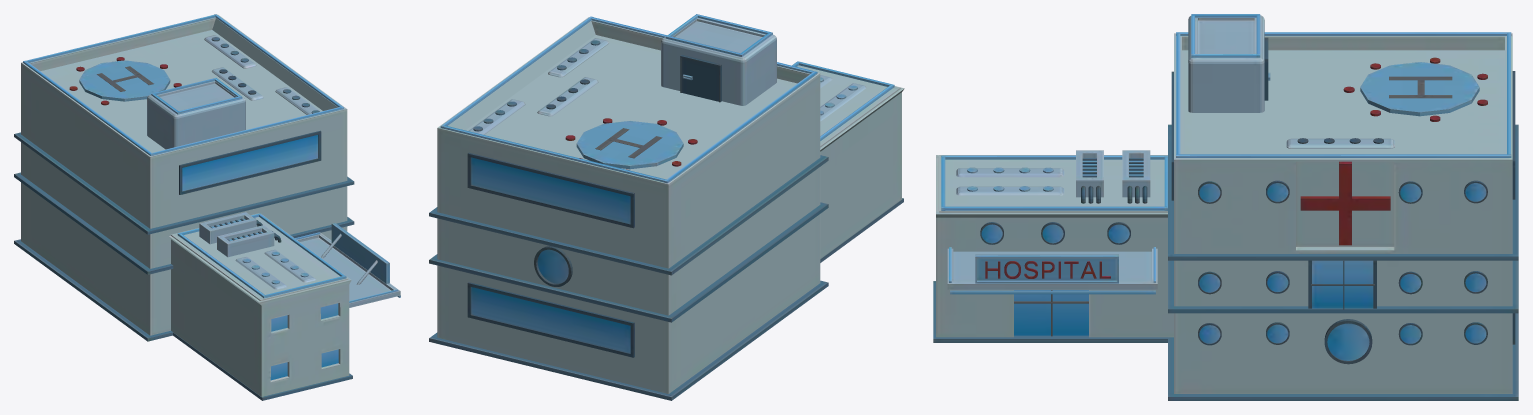
File: Hospital-transformed.glb
3 renders of one model, left to right at view 1: azimuth 30°, elevation 25°; view 2: azimuth 150°, elevation 25°; view 3: azimuth 270°, elevation 25°, orthographic. The views are drawn at different scales.
Visible parts, largest first — view 1: Node; view 2: Node; view 3: Node.
Part boxes in pixels (x1=…): Node: x1=14, y1=14, x2=400, y2=400; Node: x1=429, y1=14, x2=904, y2=400; Node: x1=933, y1=14, x2=1518, y2=400.
Size of the model in its own units: 334 by 329 by 625.
Materials: 1 (1 with a texture image).
